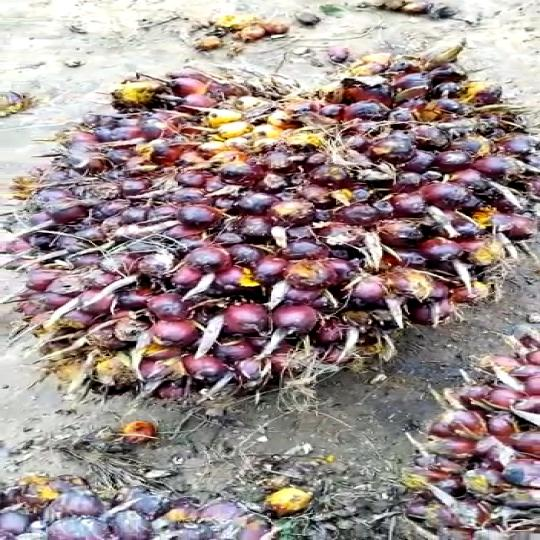kurang masak: (31, 43, 520, 428)
